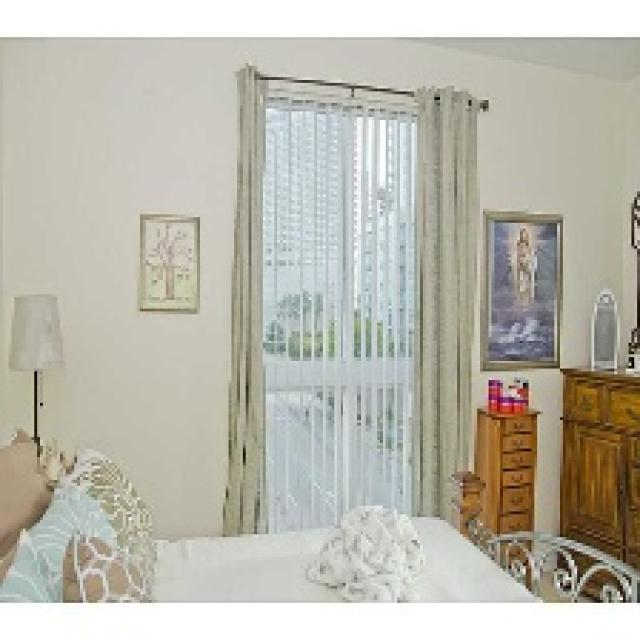Bed: (0, 431, 637, 603)
